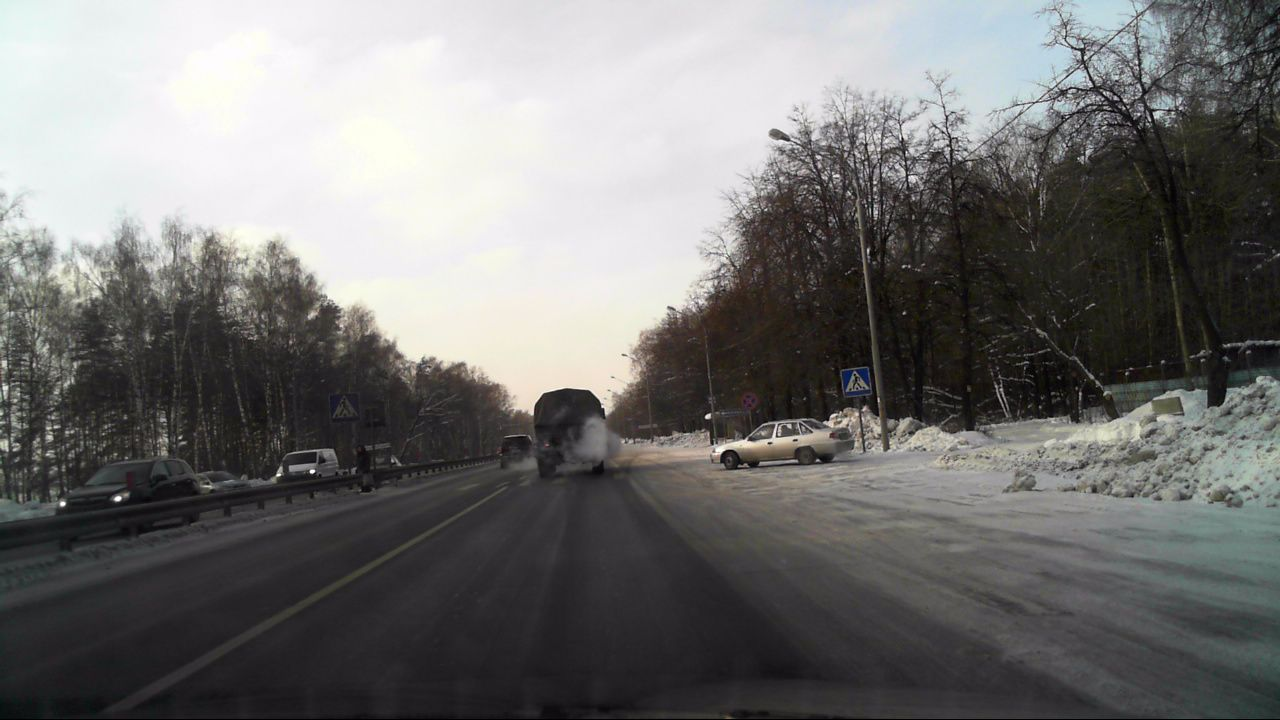No Parking: (741, 393, 758, 409)
